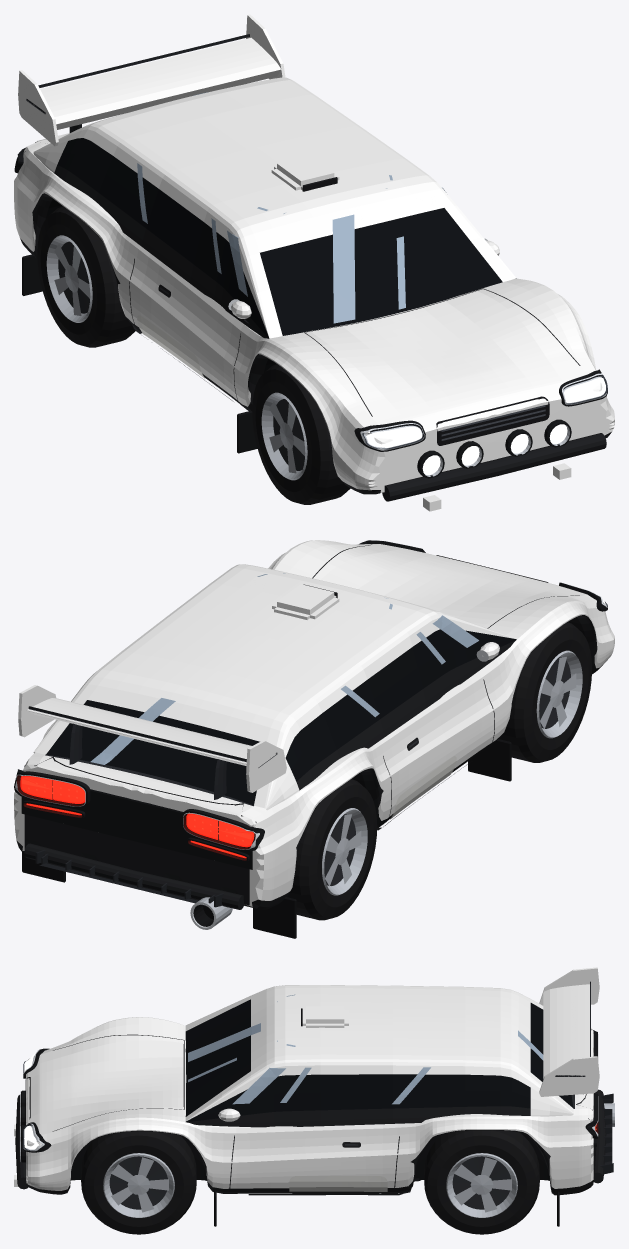
The model's file is rally.glb.
3 renders of one model, top to bottom at view 1: azimuth 30°, elevation 25°; view 2: azimuth 150°, elevation 25°; view 3: azimuth 270°, elevation 25°, orthographic. The views are drawn at different scales.
Visible parts, largest first — view 1: cabine, body, asa, wheel_rr, wheel_fr, divisor, reflexo_vidro, lamp_head, asa_placas, entradas_frente, tomada_teto, para_barros (+3 smaller); view 2: cabine, body, painel_traseiro, wheel_rr, wheel_fr, lamp_tail, asa, para_barros, parachoque_tras, asa_placas, reflexo_vidro, tomada_teto (+4 smaller); view 3: cabine, body, wheel_rl, wheel_fl, asa, asa_placas, reflexo_vidro, painel_numero, tomada_teto, lamp_head, parachoque_tras, difusor (+4 smaller).
Part boxes in pixels (x1,y1,x2,y2): cabine: [33, 77, 516, 338]; body: [14, 133, 614, 494]; asa: [38, 34, 281, 129]; wheel_rr: [37, 206, 135, 347]; wheel_fr: [252, 364, 350, 504]; divisor: [382, 433, 606, 511]; reflexo_vidro: [137, 92, 446, 323]; lamp_head: [354, 369, 607, 451]; asa_placas: [18, 14, 285, 146]; entradas_frente: [436, 396, 549, 445]; tomada_teto: [271, 155, 339, 191]; para_barros: [22, 254, 257, 453]; cabine: [33, 564, 516, 810]; body: [14, 540, 614, 909]; painel_traseiro: [21, 757, 256, 905]; wheel_rr: [288, 779, 377, 920]; wheel_fr: [498, 622, 591, 762]; lamp_tail: [14, 769, 264, 861]; asa: [26, 698, 251, 765]; para_barros: [22, 739, 511, 938]; parachoque_tras: [24, 843, 244, 909]; asa_placas: [18, 685, 286, 792]; reflexo_vidro: [90, 573, 478, 764]; tomada_teto: [272, 584, 339, 619]; cabine: [185, 985, 573, 1127]; body: [26, 1017, 593, 1195]; wheel_rl: [424, 1130, 539, 1234]; wheel_fl: [81, 1131, 196, 1234]; asa: [543, 981, 590, 1078]; asa_placas: [539, 967, 599, 1096]; reflexo_vidro: [188, 994, 543, 1104]; painel_numero: [289, 1176, 387, 1191]; tomada_teto: [301, 1006, 348, 1027]; lamp_head: [23, 1048, 51, 1152]; parachoque_tras: [593, 1089, 606, 1183]; difusor: [593, 1093, 613, 1174].
Bounding box in the file's own units: 1.96 × 1.43 × 4.52.
